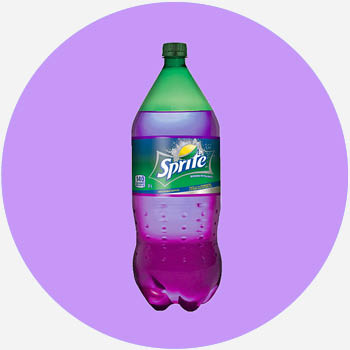sprite: (155, 151, 206, 179)
